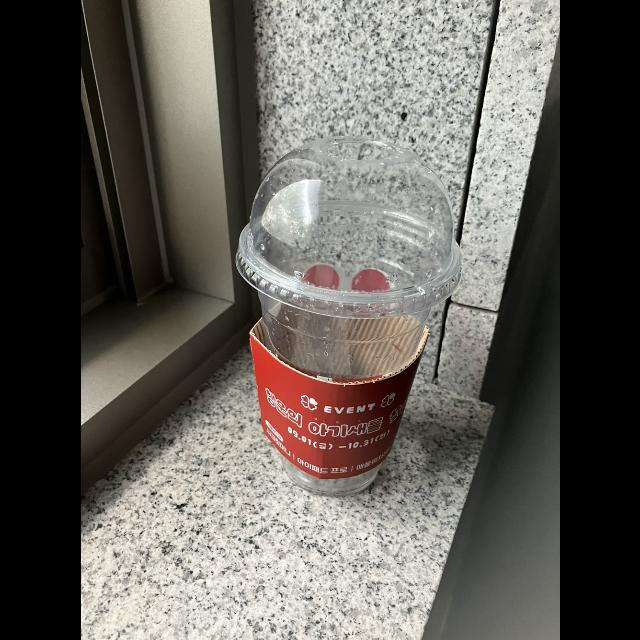plastic_cup: (233, 136, 465, 524)
plastic_cup_lid: (236, 137, 464, 319)
